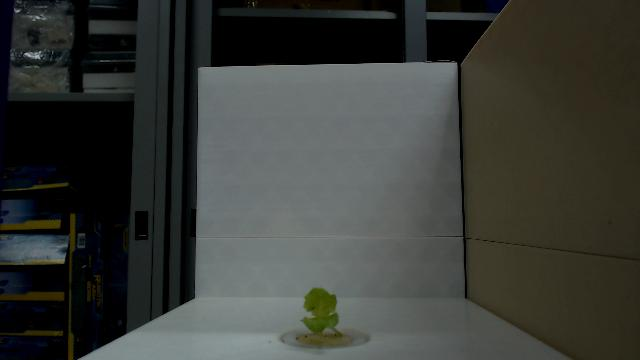Seedling Stage: (300, 286, 346, 336)
